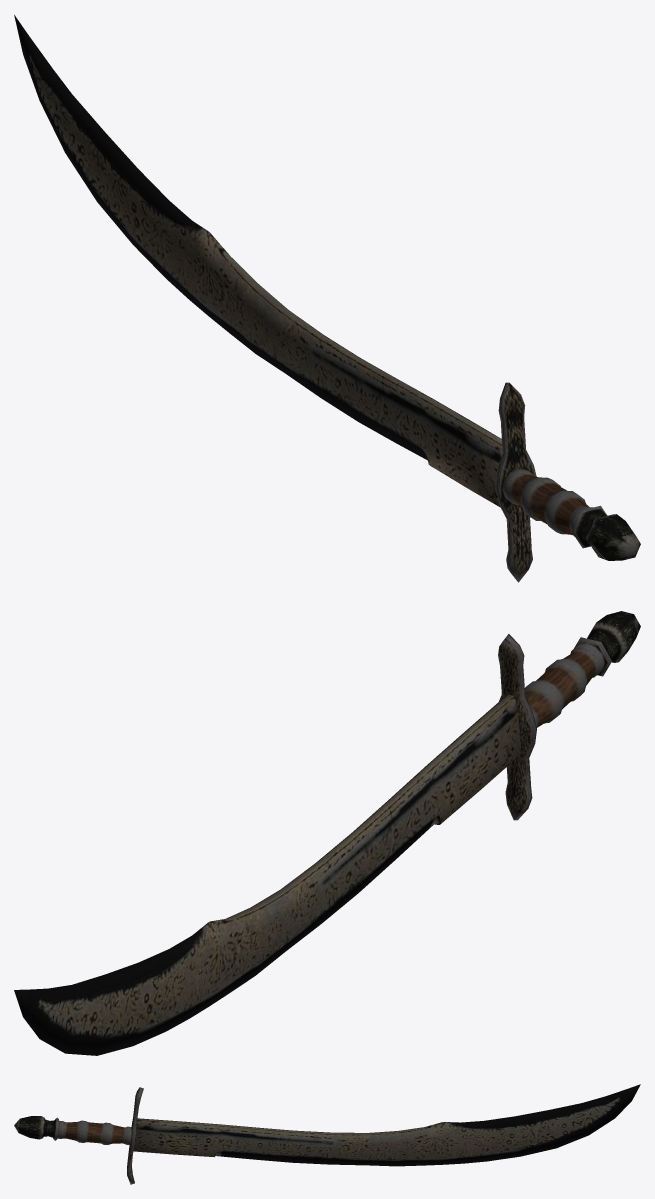
File: item.weapon.foundry_scrapblade.glb
3 views of the same model, one above another, from view 1: azimuth 30°, elevation 25°; view 2: azimuth 150°, elevation 25°; view 3: azimuth 270°, elevation 25° (orthographic). The views are drawn at different scales.
Visible parts, largest first — view 1: g Sword_obj_sep4_default5low_Group31693; view 2: g Sword_obj_sep4_default5low_Group31693; view 3: g Sword_obj_sep4_default5low_Group31693.
Part boxes in pixels (left/top/right/bottom): g Sword_obj_sep4_default5low_Group31693: left=14, top=14, right=640, bottom=582; g Sword_obj_sep4_default5low_Group31693: left=14, top=611, right=640, bottom=1055; g Sword_obj_sep4_default5low_Group31693: left=14, top=1084, right=640, bottom=1184.
Bounding box in the file's own units: 0.0451 × 0.211 × 1.19.
Materials: 1 (1 with a texture image).
